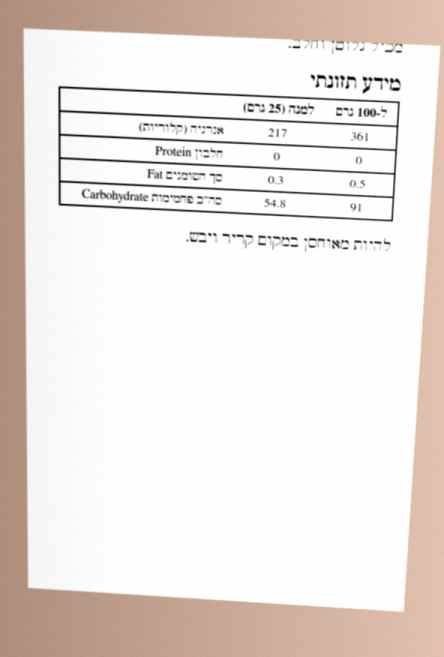carbs: (348, 199, 365, 215)
energy: (349, 128, 372, 145)
fat: (348, 176, 368, 192)
protein: (354, 152, 364, 168)
